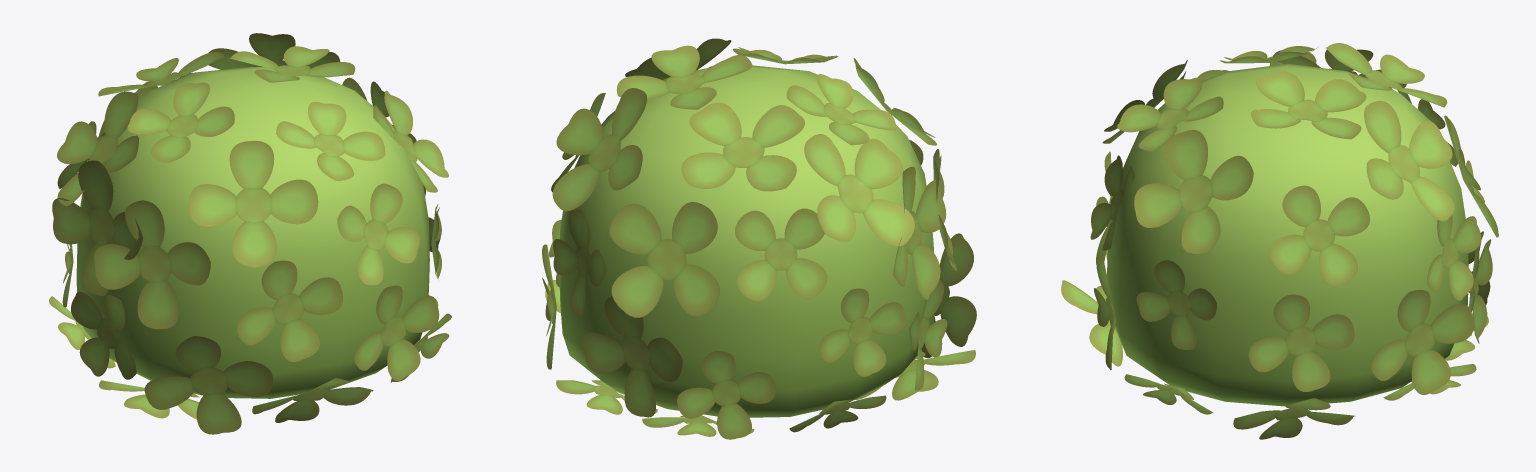
File: mct_foliage_bush.fbx
3 renders of one model, left to right at view 1: azimuth 30°, elevation 25°; view 2: azimuth 150°, elevation 25°; view 3: azimuth 270°, elevation 25°, orthographic. The views are drawn at different scales.
Visible parts, largest first — view 1: mct_foliage_bush; view 2: mct_foliage_bush; view 3: mct_foliage_bush.
Part boxes in pixels (box(x1,y1,x2,y2)): mct_foliage_bush: box(49, 33, 451, 434); mct_foliage_bush: box(542, 38, 976, 439); mct_foliage_bush: box(1061, 43, 1498, 439).
Bounding box in the file's own units: 136 × 112 × 134.
